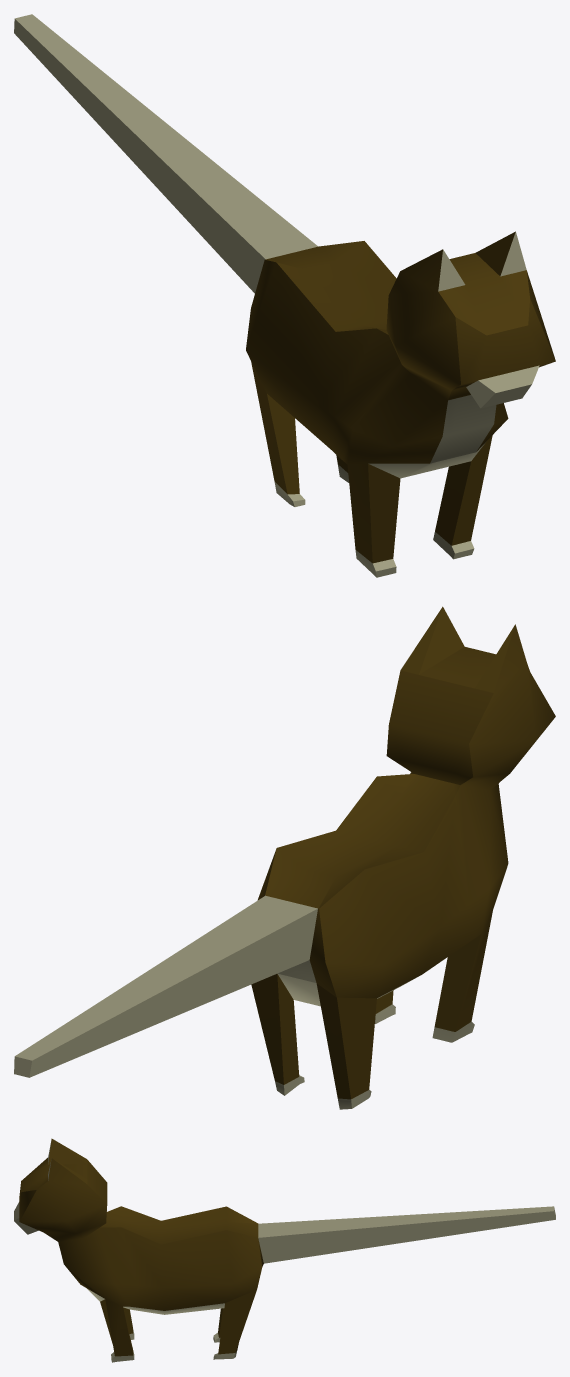
Rendered from CatClubModel.fbx.
3 renders of one model, top to bottom at view 1: azimuth 30°, elevation 25°; view 2: azimuth 150°, elevation 25°; view 3: azimuth 270°, elevation 25°, orthographic. The views are drawn at different scales.
Parts seen in each view (by area): view 1: pCube1; view 2: pCube1; view 3: pCube1.
Part boxes in pixels (x1,y1,x2,y2): pCube1: [14, 14, 555, 577]; pCube1: [14, 606, 555, 1109]; pCube1: [14, 1138, 555, 1362].
Size of the model in its own units: 0.611 by 1.52 by 3.71.
